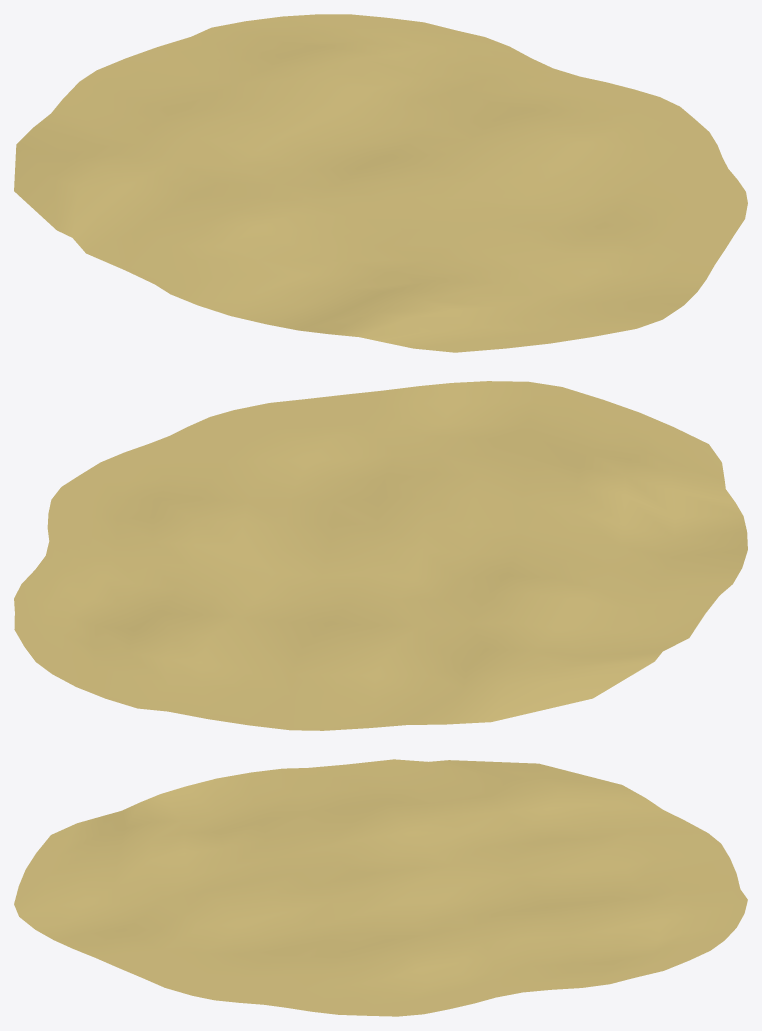
Rendered from DV_Mang sinh chat.fbx.
3 views of the same model, one above another, from view 1: azimuth 30°, elevation 25°; view 2: azimuth 150°, elevation 25°; view 3: azimuth 270°, elevation 25° (orthographic). The views are drawn at different scales.
Parts seen in each view (by area): view 1: Plane.001; view 2: Plane.001; view 3: Plane.001.
Boxes of the visible parts, bbox=[...] form: Plane.001: bbox=[14, 14, 747, 352]; Plane.001: bbox=[14, 381, 747, 730]; Plane.001: bbox=[14, 759, 747, 1016].
Size of the model in its own units: 144 by 3.22 by 173.
1 material, 1 textured.
